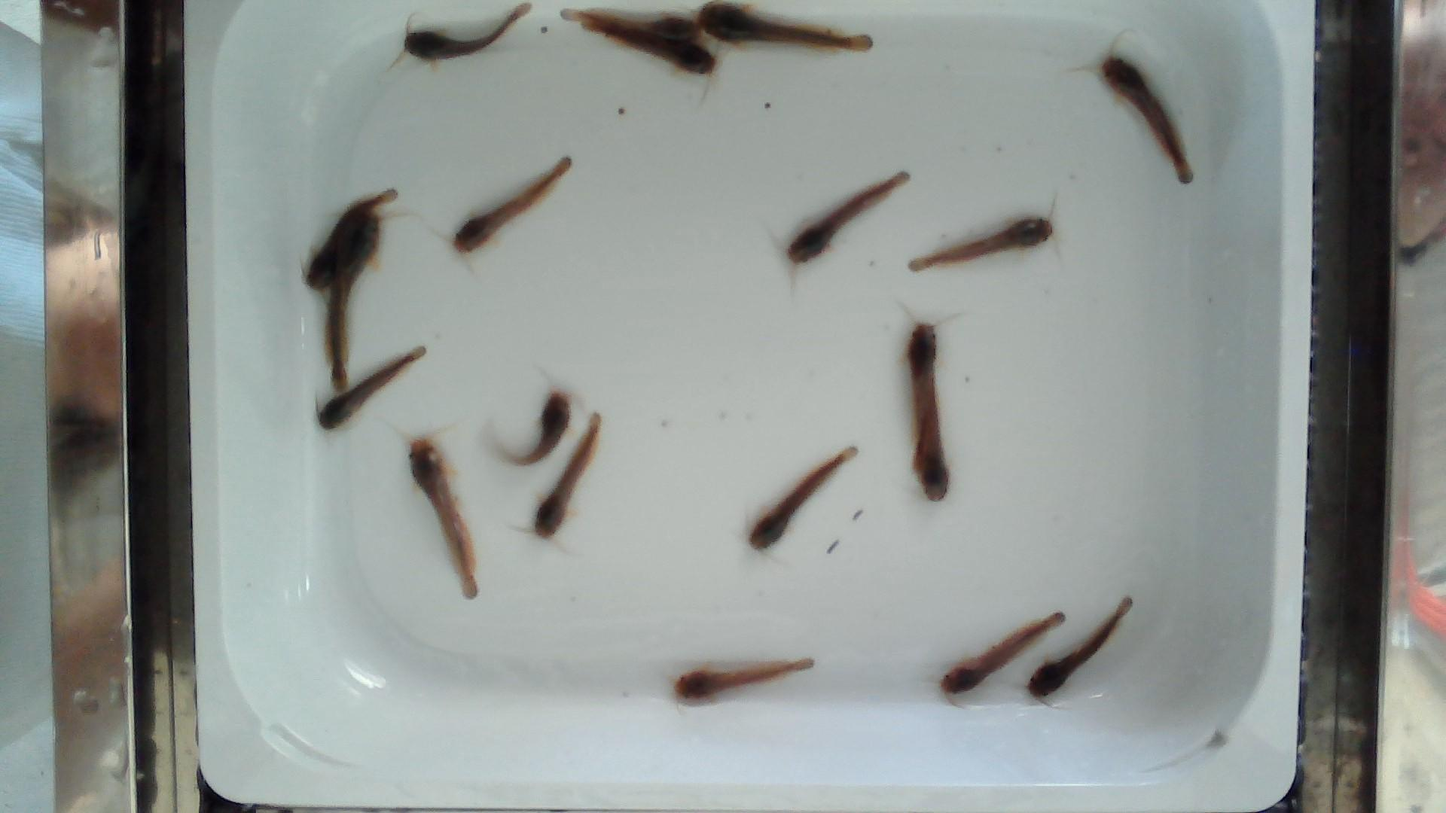lele: (1101, 55, 1192, 183), (453, 157, 571, 252), (749, 446, 856, 550), (787, 172, 908, 263), (409, 437, 477, 598), (1027, 597, 1132, 699), (940, 611, 1065, 694), (307, 190, 400, 288), (317, 346, 426, 429), (330, 215, 380, 387), (533, 413, 601, 537), (697, 2, 871, 50), (581, 15, 715, 74), (909, 216, 1052, 271), (404, 4, 530, 59), (675, 659, 813, 700), (562, 8, 700, 41), (919, 371, 950, 503), (908, 322, 935, 473), (516, 391, 569, 464)
